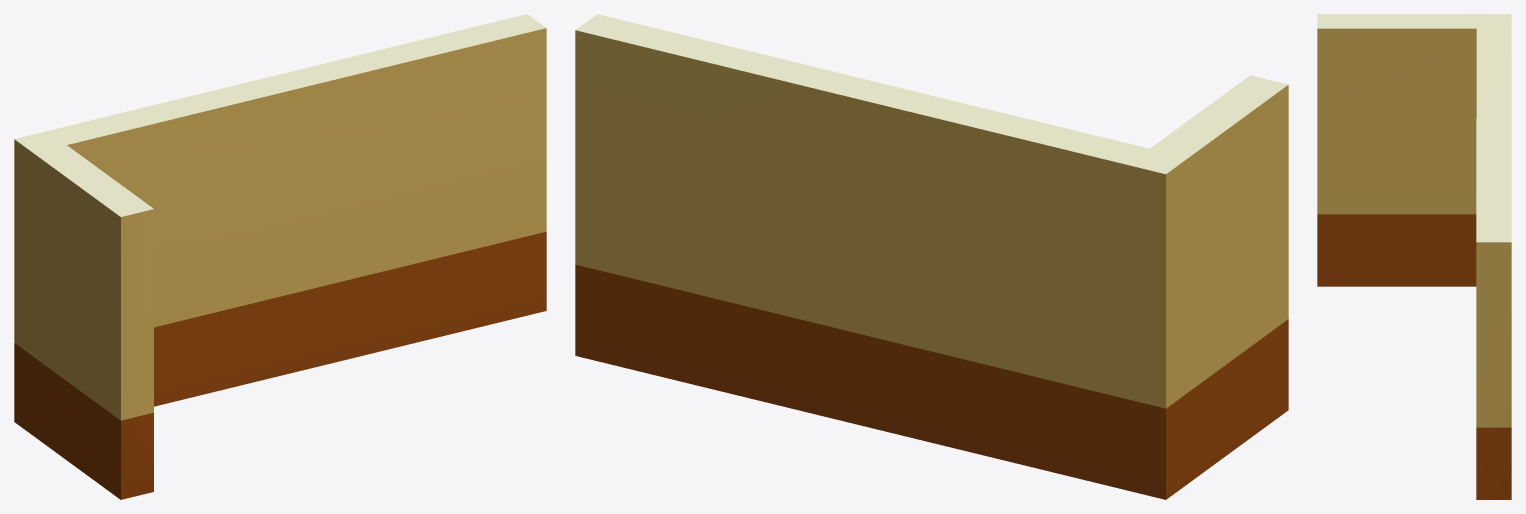
Rendered from Tuong phai 1.002.gltf.
3 renders of one model, left to right at view 1: azimuth 30°, elevation 25°; view 2: azimuth 150°, elevation 25°; view 3: azimuth 270°, elevation 25°, orthographic. The views are drawn at different scales.
Visible parts, largest first — view 1: Tuong phai 1.002; view 2: Tuong phai 1.002; view 3: Tuong phai 1.002.
Boxes of the visible parts, x1,y1,x2,y2 form: Tuong phai 1.002: [14, 14, 546, 499]; Tuong phai 1.002: [575, 14, 1288, 499]; Tuong phai 1.002: [1317, 14, 1511, 499].
Size of the model in its own units: 18.46 by 9.73 by 6.64.
Materials: 1 (1 with a texture image).
